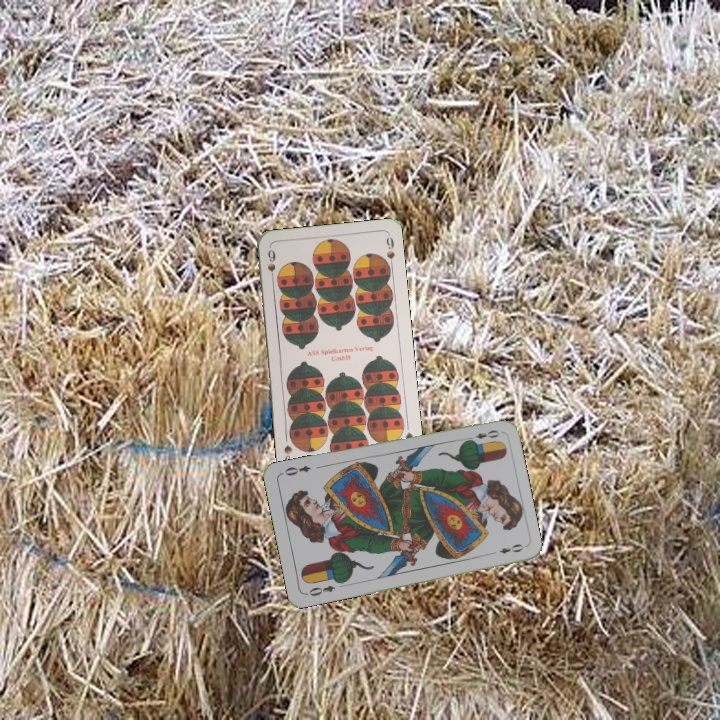EO: (462, 426, 502, 445), (302, 581, 337, 599)
S9: (263, 245, 278, 285)
